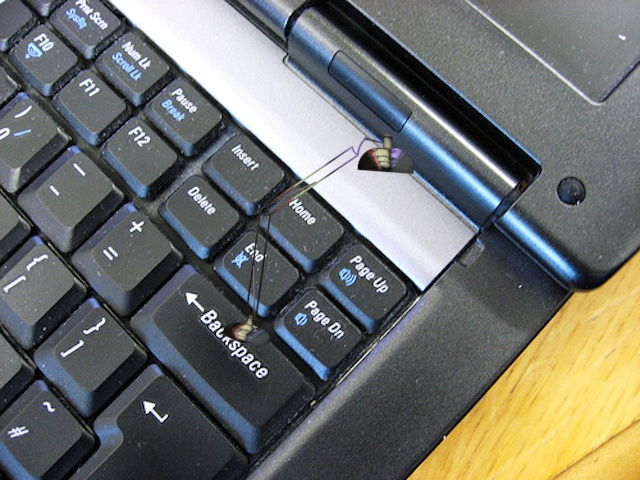desk_lamp: (217, 129, 416, 353)
